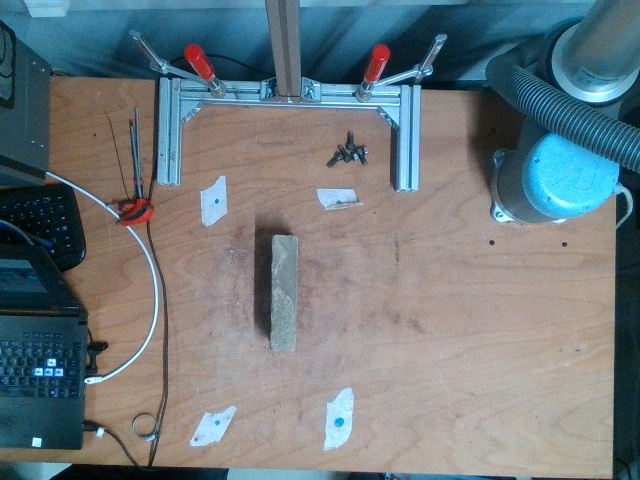brick-side: (271, 237, 295, 350)
